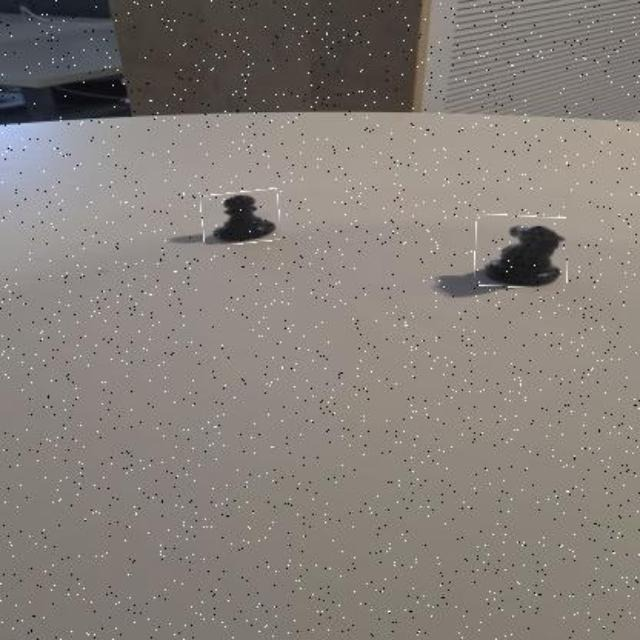black-knight: (475, 215, 568, 288)
black-pawn: (203, 191, 281, 245)
